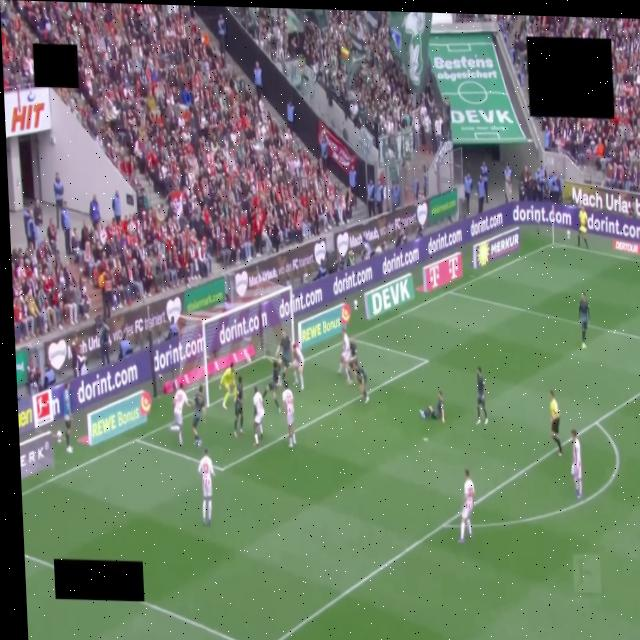player: (261, 359, 283, 413), (459, 469, 475, 543), (199, 448, 214, 525), (170, 384, 189, 444), (570, 429, 584, 499), (282, 381, 295, 447), (192, 385, 206, 446), (420, 390, 445, 423), (276, 331, 292, 380), (220, 363, 235, 409), (253, 386, 264, 446), (476, 366, 487, 425), (339, 327, 350, 379), (579, 292, 589, 349), (292, 343, 304, 390), (355, 362, 369, 402), (234, 376, 243, 437), (347, 338, 358, 384)
referee: (550, 391, 562, 456)
